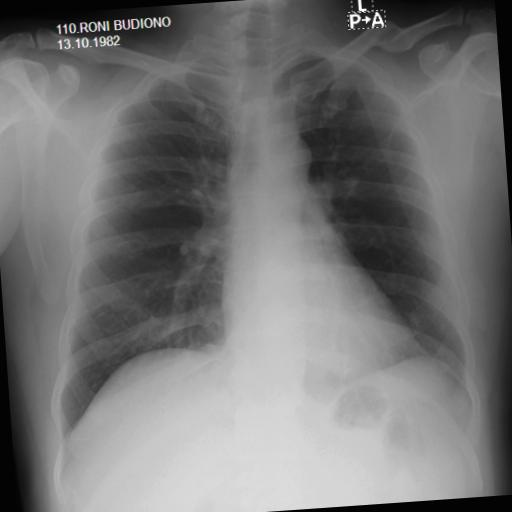normal: (20, 22, 491, 454)
